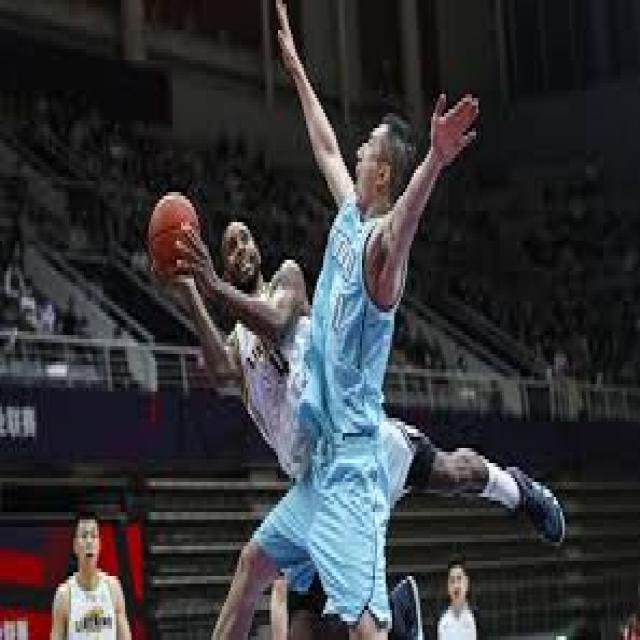rim: (148, 192, 198, 282)
